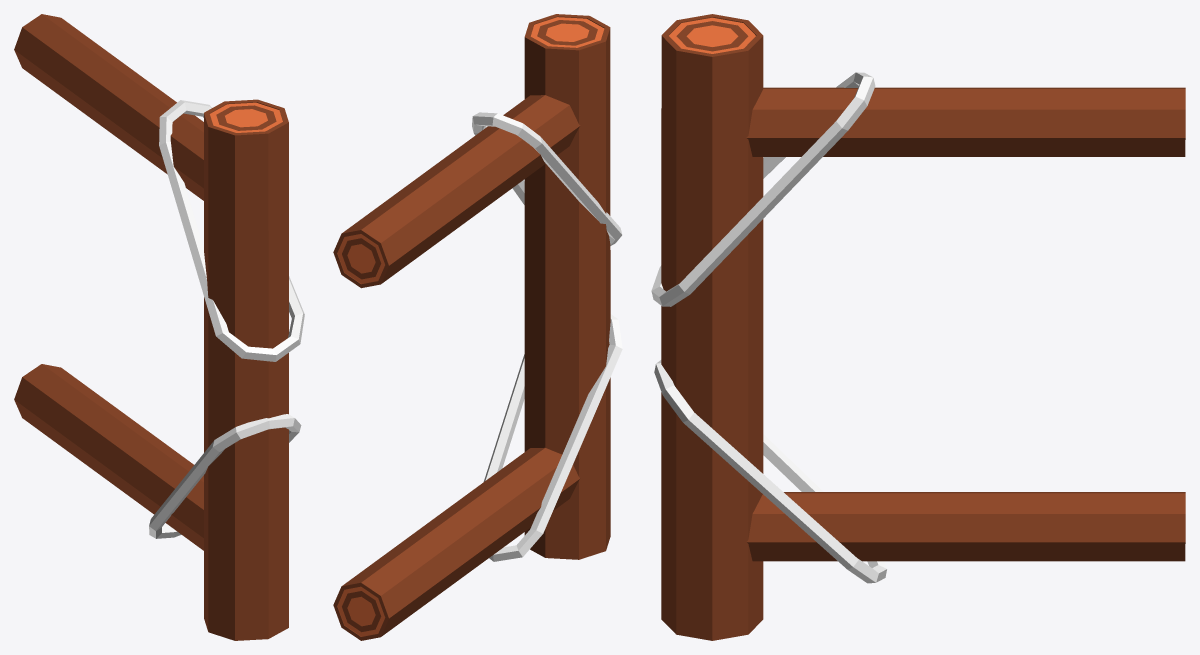
Rendered from MineSupport.fbx.
3 views of the same model, side by side, from view 1: azimuth 30°, elevation 25°; view 2: azimuth 150°, elevation 25°; view 3: azimuth 270°, elevation 25° (orthographic). The views are drawn at different scales.
Visible parts, largest first — view 1: Torus.005; view 2: Torus.005; view 3: Torus.005.
Part boxes in pixels (left/top/right/bottom): Torus.005: left=14, top=14, right=304, bottom=640; Torus.005: left=333, top=14, right=622, bottom=640; Torus.005: left=651, top=14, right=1185, bottom=640.
Bounding box in the file's own units: 162 × 865 × 717.
